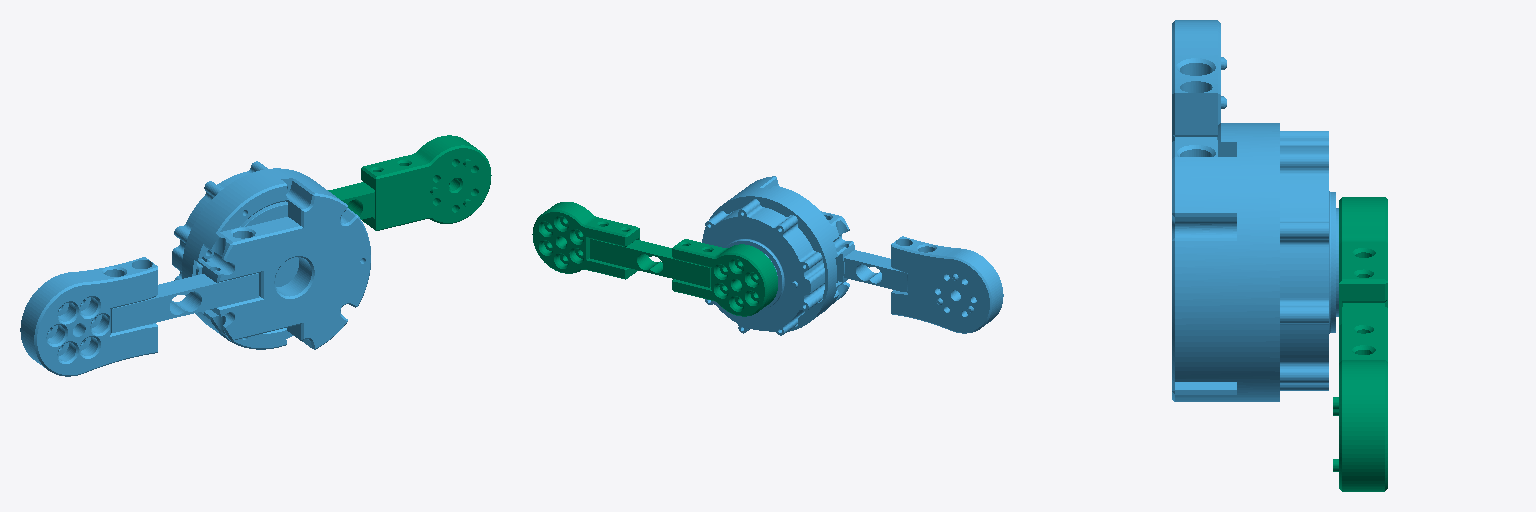
URDF robot description (spine):
<?xml version="1.0"?>
<robot name="spine">

  <!-- <link name="world"/>

  <joint name="base_fixed" type="fixed">
    <parent link="world"/>
    <child link="hind_spine"/>
    <origin xyz="0 0 0.5" rpy="0 0 0"/>
  </joint> -->
  
  
  <link name="hind_body">
    <inertial>
      <origin xyz="0 0 0" rpy="0 0 0"/>
      <mass value="2.044"/>
      <inertia ixx="0.01614" ixy="0" ixz="0" 
               iyy="0.007591" iyz="0" 
               izz="0.02169"/>
    </inertial>
    <visual>
      <origin xyz="0 0 0" rpy="0 0 0"/>
      <geometry>
        <mesh filename="meshes/simplify_hind_body.stl" scale="0.001 0.001 0.001"/>
      </geometry>
    </visual>
    <collision>
      <origin xyz="0 0 0" rpy="0 0 0"/>
      <geometry>
        <mesh filename="meshes/simplify_hind_body.stl" scale="0.001 0.001 0.001"/>
      </geometry>
    </collision>
  </link>

  <joint name="joint_hind_spine" type="revolute">
    <parent link="hind_body"/>
    <child link="hind_spine"/>
    <origin xyz="0.106797362 -0.019360423 0.000984733" rpy="0 0 0"/>
    <axis xyz="0 1 0"/>
    <limit lower="-10" upper="10" effort="12" velocity="100"/>
    <dynamics damping="0.0" friction="0.0"/>
  </joint>

  <link name="hind_spine">
    <inertial>
      <origin xyz="0.109455866 0.014797864 0" rpy="0 0 0"/>
      <mass value="0.399"/>
      <inertia ixx="0.0001953" ixy="0" ixz="0" 
               iyy="0.0005357" iyz="0" 
               izz="0.0004759"/>
    </inertial>
    <visual>
      <origin xyz="0 0 0" rpy="0 0 0"/>
      <geometry>
        <mesh filename="meshes/hind_mid_spine.stl" scale="0.001 0.001 0.001"/>
      </geometry>
    </visual>
    <collision>
      <origin xyz="0 0 0" rpy="0 0 0"/>
      <geometry>
        <mesh filename="meshes/hind_mid_spine.stl" scale="0.001 0.001 0.001"/>
      </geometry>
    </collision>
  </link>

  <joint name="joint_front_spine" type="revolute">
    <parent link="hind_spine"/>
    <child link="front_spine"/>
    <origin xyz="0.1175 0.036 0" rpy="0 0 0"/>
    <axis xyz="0 1 0"/>
    <limit lower="-10" upper="10" effort="12" velocity="100"/>
    <dynamics damping="0.0" friction="0.0"/>
  </joint>

  <link name="front_spine">
    <inertial>
      <origin xyz="0.05875 0.0073 0" rpy="0 0 0"/>
      <mass value="0.052"/>
      <inertia ixx="0.0000036976" ixy="0" ixz="0" 
               iyy="0.000084358" iyz="0" 
               izz="0.000082312887603"/>
    </inertial>
    <visual>
      <origin xyz="0 0 0" rpy="0 0 0"/>
      <geometry>
        <mesh filename="meshes/front_mid_spine.stl" scale="0.001 0.001 0.001"/>
      </geometry>
    </visual>
    <collision>
      <origin xyz="0 0 0" rpy="0 0 0"/>
      <geometry>
        <mesh filename="meshes/front_mid_spine.stl" scale="0.001 0.001 0.001"/>
      </geometry>
    </collision>
  </link>

  <joint name="joint_front_body" type="revolute">
    <parent link="front_spine"/>
    <child link="front_body"/>
    <origin xyz="0.1175 0 0" rpy="0 0 0"/>
    <axis xyz="0 1 0"/>
    <limit lower="-10" upper="10" effort="12" velocity="100"/>
    <dynamics damping="0.0" friction="0.0"/>
  </joint>

  <link name="front_body">
    <inertial>
      <origin xyz="0.107249862 -0.019360422 -0.002160635" rpy="0 0 0"/>
      <mass value="2.044"/>
      <inertia ixx="0.01614" ixy="0" ixz="0" 
               iyy="0.007591" iyz="0" 
               izz="0.02169"/>
    </inertial>
    <visual>
      <origin xyz="0 0 0" rpy="0 0 0"/>
      <geometry>
        <mesh filename="meshes/front_body.stl" scale="0.001 0.001 0.001"/>
      </geometry>
    </visual>
    <collision>
      <origin xyz="0 0 0" rpy="0 0 0"/>
      <geometry>
        <mesh filename="meshes/front_body.stl" scale="0.001 0.001 0.001"/>
      </geometry>
    </collision>
  </link>
</robot>

--- Render facts (derived) ---
3 views of the same robot in one strip: view 1: azimuth 30°, elevation 25°; view 2: azimuth 150°, elevation 25°; view 3: azimuth 270°, elevation 25° (orthographic).
Robot: spine — 4 links, 3 joints (3 revolute); root link hind_body; default pose: every joint at zero.
Links seen in each view (by area): view 1: hind_spine, front_spine; view 2: hind_spine, front_spine; view 3: hind_spine, front_spine.
Boxes of the visible links, x1,y1,x2,y2 form: hind_spine: (20,161,370,376); front_spine: (328,135,491,230); hind_spine: (702,176,1003,335); front_spine: (532,202,777,316); hind_spine: (1172,20,1338,401); front_spine: (1333,197,1387,491).
Bounding box of the posed robot: 0.279 × 0.066 × 0.085 m (x, y, z).
Meshes: 4 distinct files referenced, 2 mesh visuals loaded (2 binary STL); not drawn: 2 (reference not matched to a file when rendering).